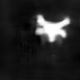plane: (34, 13, 70, 43)
